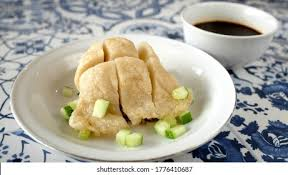Pempek kapal selam: (72, 39, 195, 139)
